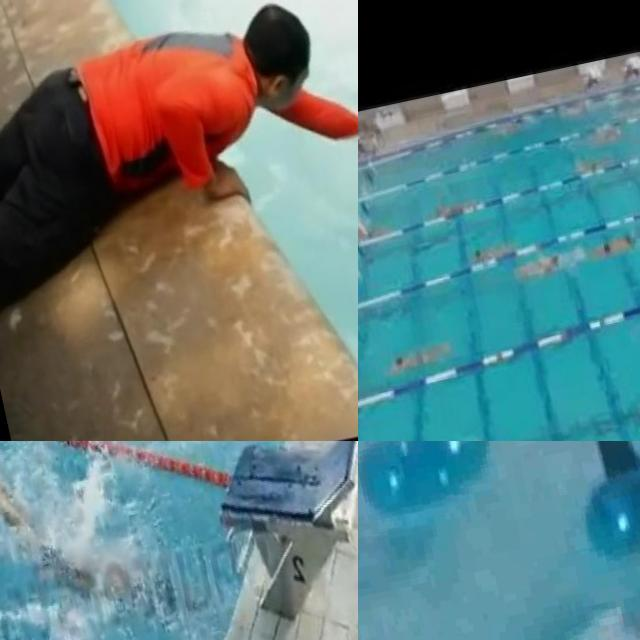drowning: (540, 566, 640, 640)
out of water: (0, 0, 358, 286)
swimming: (0, 441, 194, 640), (390, 328, 454, 376), (563, 148, 611, 188), (587, 223, 635, 262), (434, 188, 481, 225), (517, 248, 562, 286), (464, 231, 510, 268), (358, 217, 397, 254)
